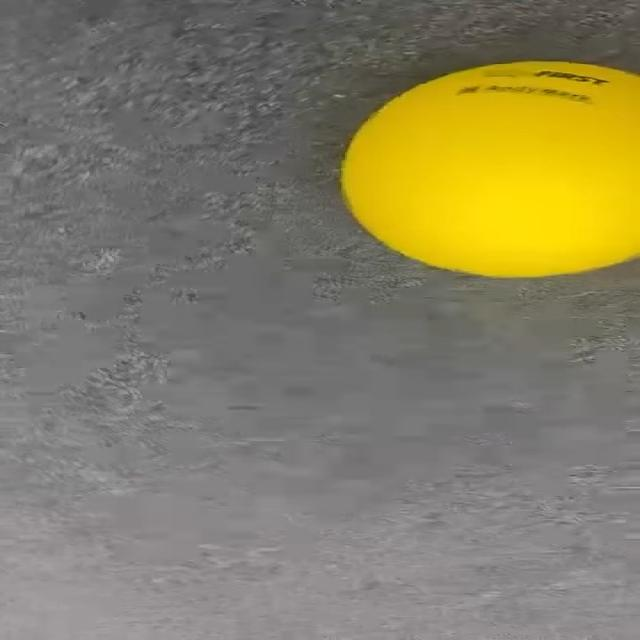Fuels: (339, 59, 640, 276)
